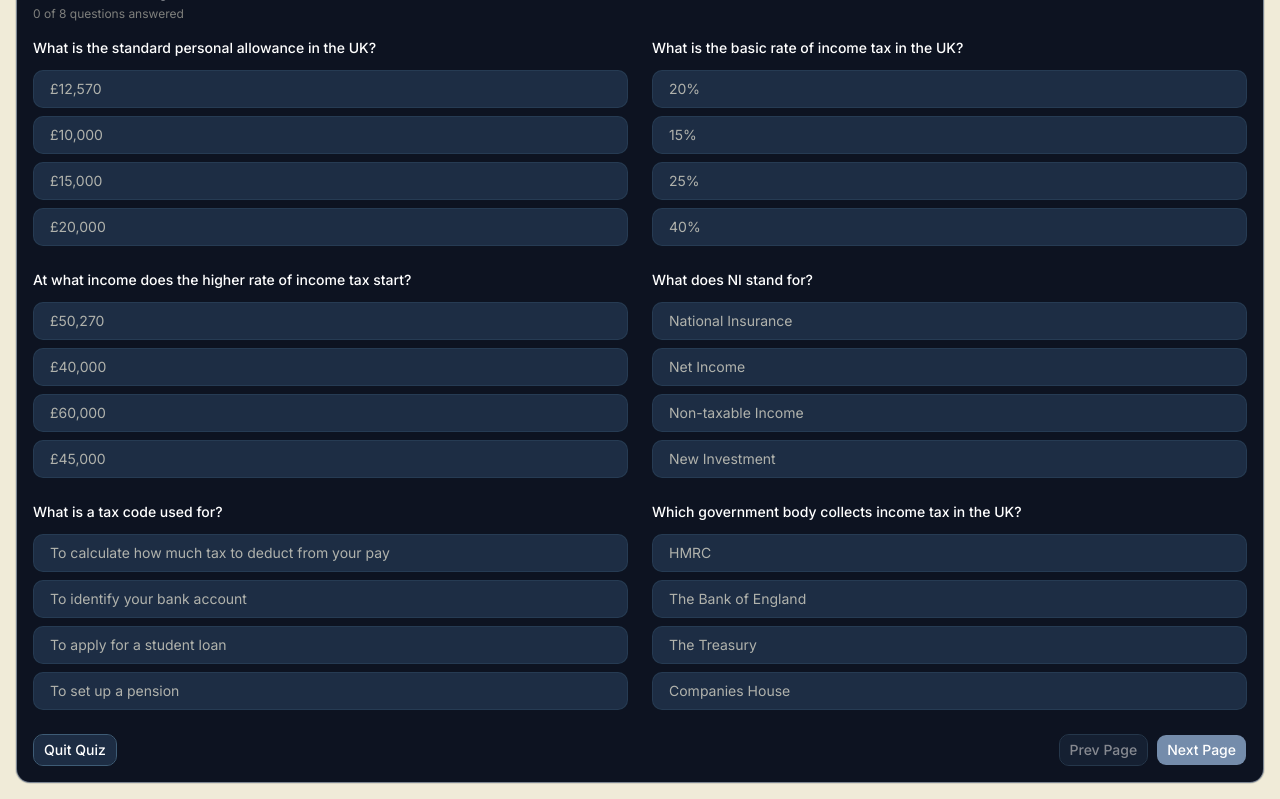
Test case: LearningHubQuizPage › submit button is disabled when not all questions are answered
(page scrolled)
What coordinates should you click on to do the following:
click the button "Next Page"
I would click on:
 (1202, 750)
Its box is [1156,734,1247,766].
(page scrolled)
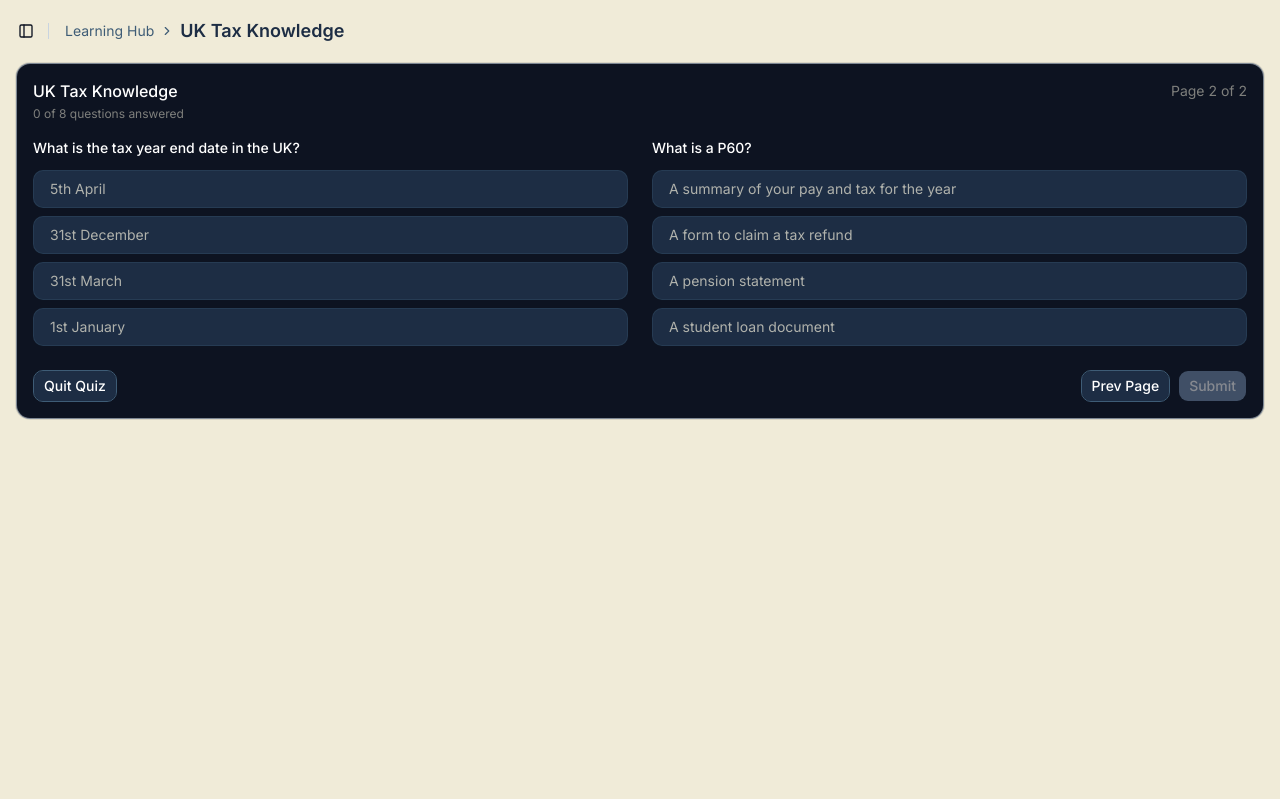
Expected: the button "Submit" is disabled, [1178,370,1247,402]
